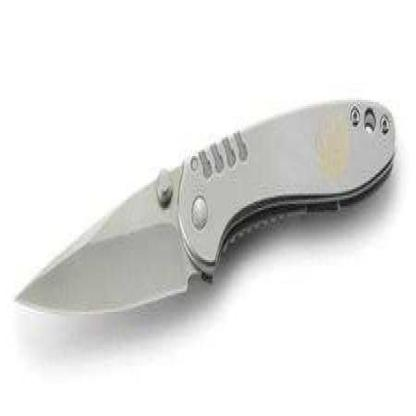Knife: (8, 119, 402, 337)
